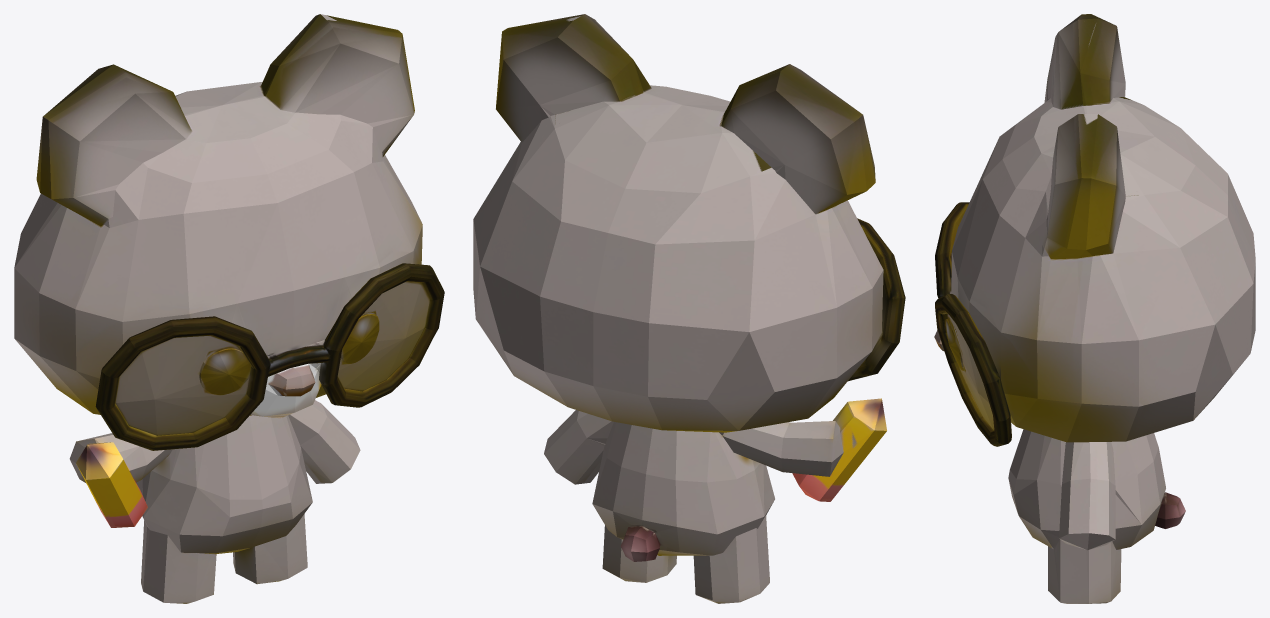
File: low_bear.glb
3 renders of one model, left to right at view 1: azimuth 30°, elevation 25°; view 2: azimuth 150°, elevation 25°; view 3: azimuth 270°, elevation 25°, orthographic. The views are drawn at different scales.
Visible parts, largest first — view 1: LOW_BEAR_MESH; view 2: LOW_BEAR_MESH; view 3: LOW_BEAR_MESH.
Boxes of the visible parts, bbox=[...] form: LOW_BEAR_MESH: bbox=[14, 14, 444, 603]; LOW_BEAR_MESH: bbox=[473, 14, 905, 603]; LOW_BEAR_MESH: bbox=[934, 14, 1255, 603].
Size of the model in its own units: 0.7739 by 1.07 by 0.6097.
Materials: 1 (1 with a texture image).
